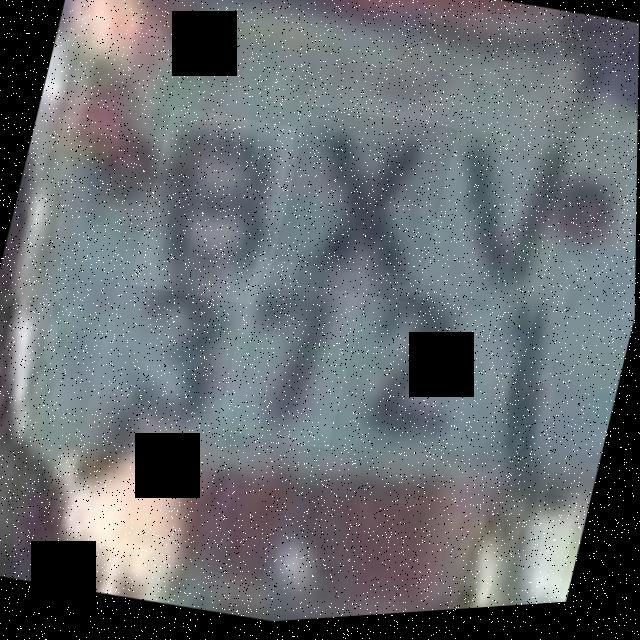3: (78, 241, 268, 483)
7: (216, 254, 370, 459)
9: (461, 486, 587, 615)
B: (130, 102, 297, 315)
X: (268, 101, 459, 317)
